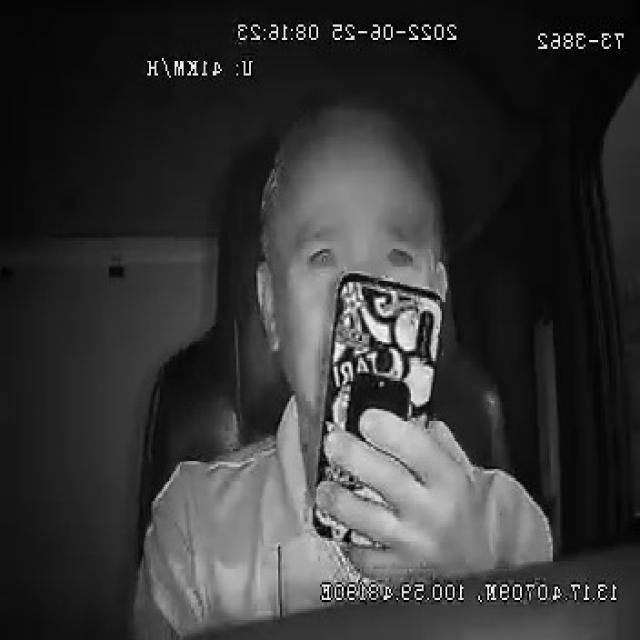phone: (312, 273, 451, 552)
